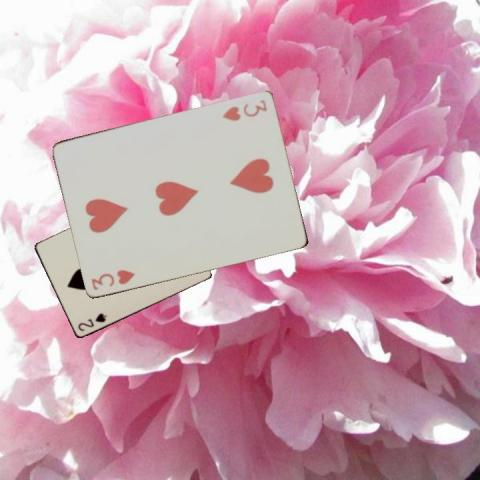2s: (75, 310, 108, 332)
3h: (219, 96, 269, 122), (88, 266, 136, 291)
